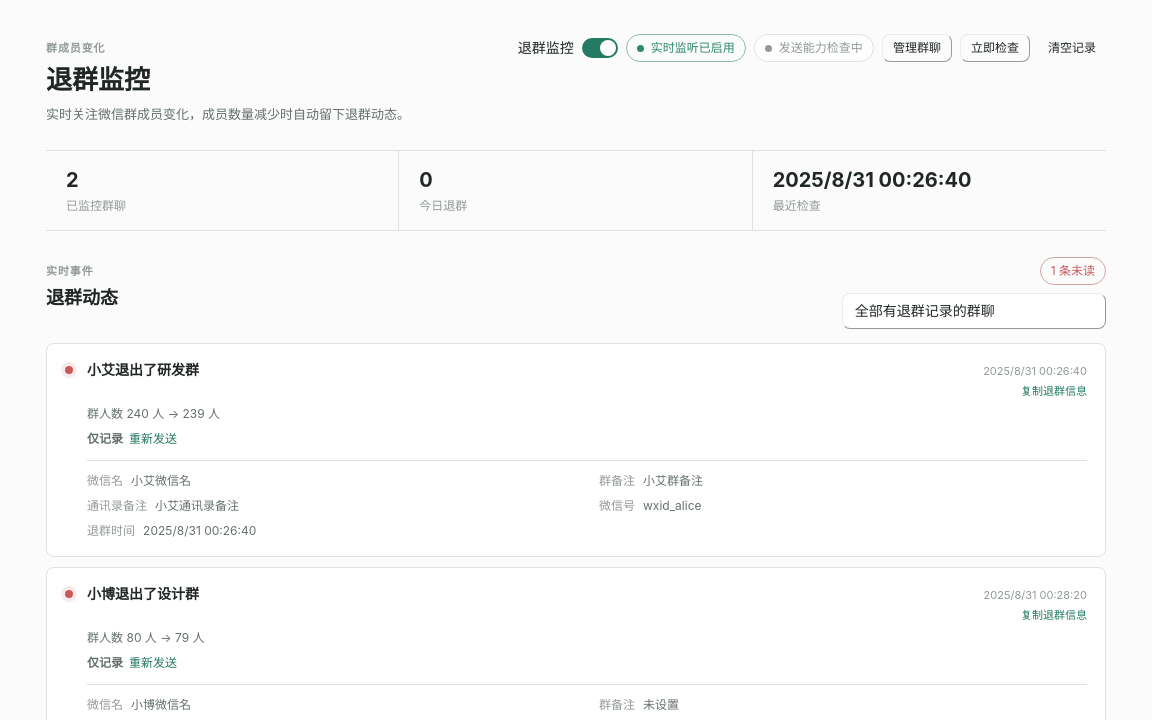
Test case: GroupExitMonitorWorkspace › persists the master switch and shows the paused state
Click the switch named "退群监控总开关" at (600, 48), box [582, 38, 618, 58]
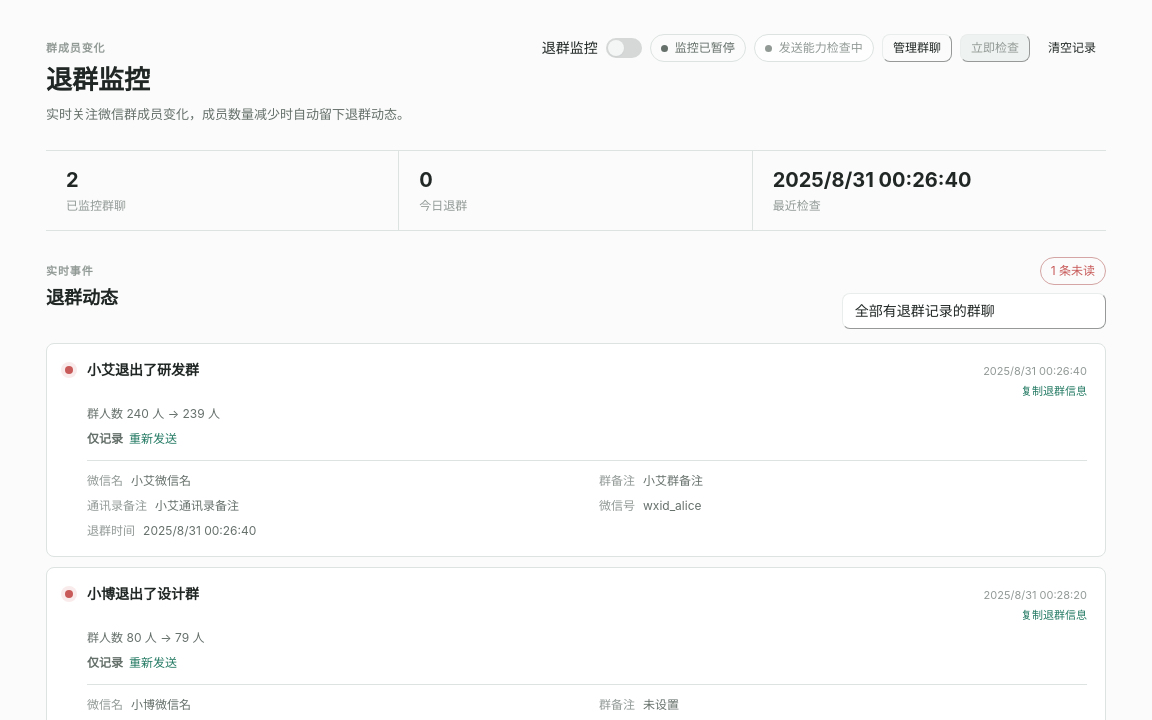
Expected: the text "监控已暂停" is shown, [650, 34, 746, 62]
Expected: the button "立即检查" is disabled, [960, 34, 1030, 62]
